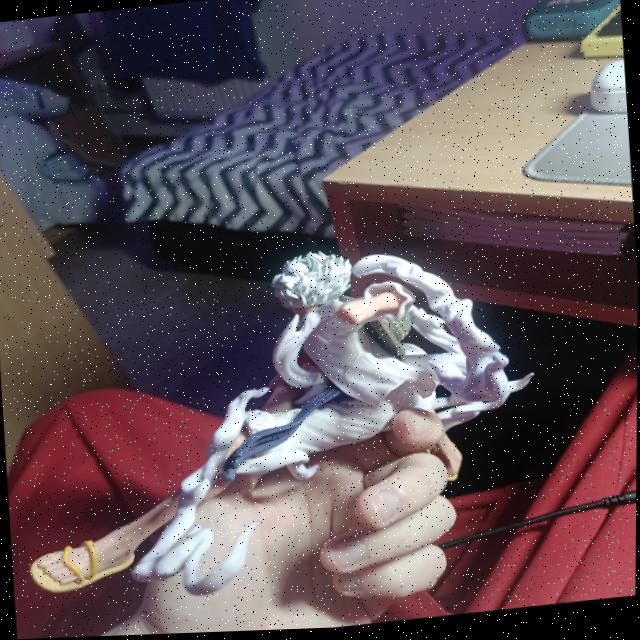luffy: (0, 215, 628, 618)
